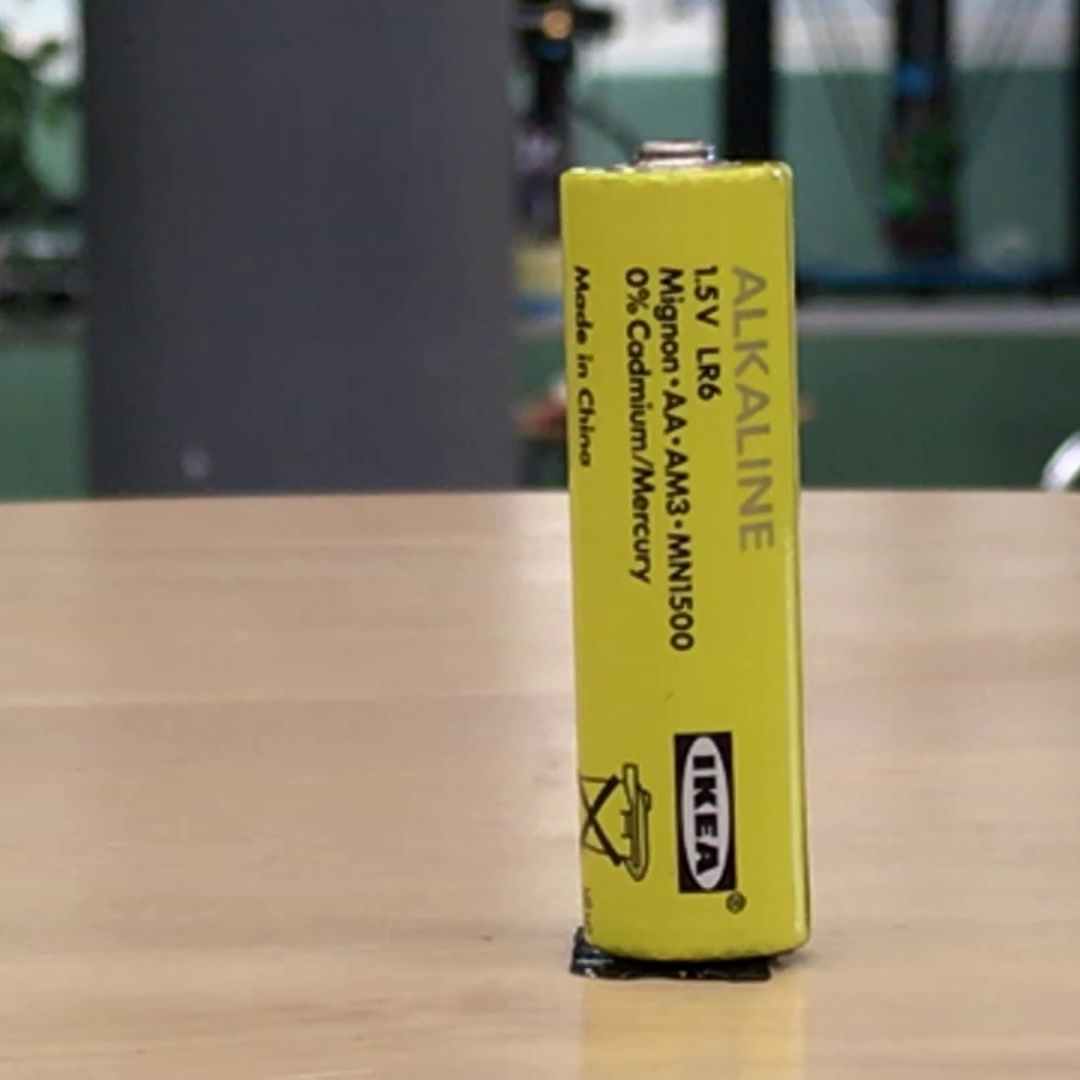keyword: (734, 263, 776, 379), (686, 337, 732, 411)
